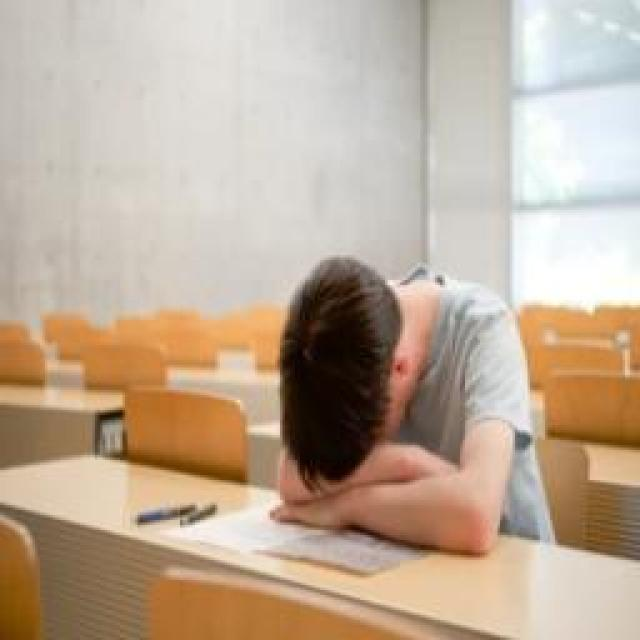sleep: (267, 255, 555, 557)
